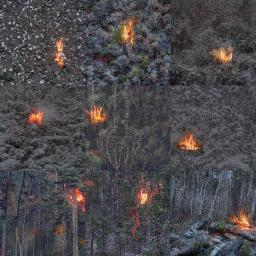Small fire: (118, 17, 141, 44), (177, 132, 205, 152), (229, 211, 253, 231), (86, 103, 106, 126), (53, 39, 67, 71), (212, 46, 236, 64), (71, 188, 87, 212), (136, 188, 153, 206), (27, 110, 43, 124)
